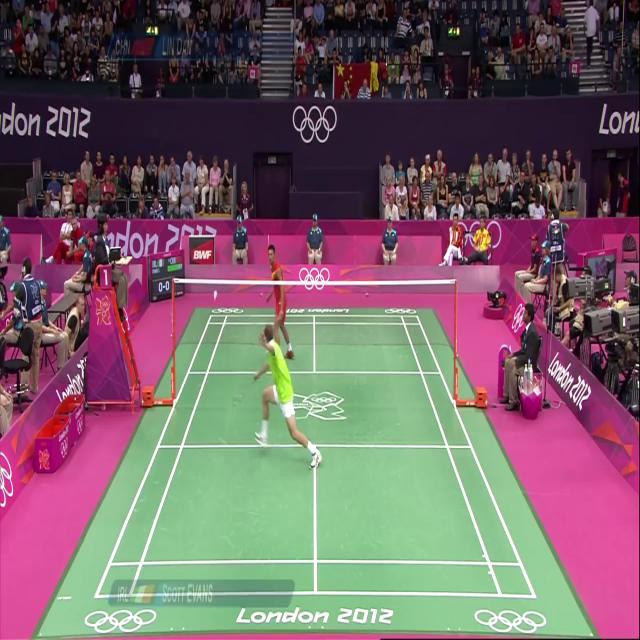Net: (172, 278, 461, 347)
Player1: (250, 314, 324, 490)
Player2: (259, 238, 296, 370)
Shuttlecock: (210, 283, 220, 303)
